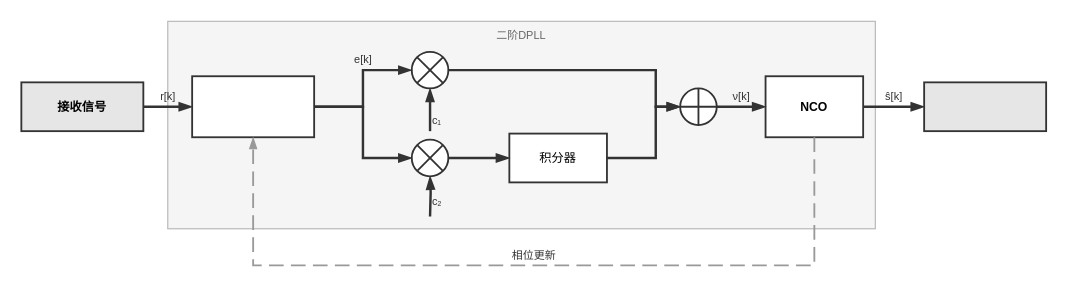
Image size: 1069x298. Some labels were removed from this diagram. Here are the shapes that lost their labels. From the top down, the centre of each, then its label:
At point (253, 106): "鉴相器".
At point (985, 106): "补偿输出".
